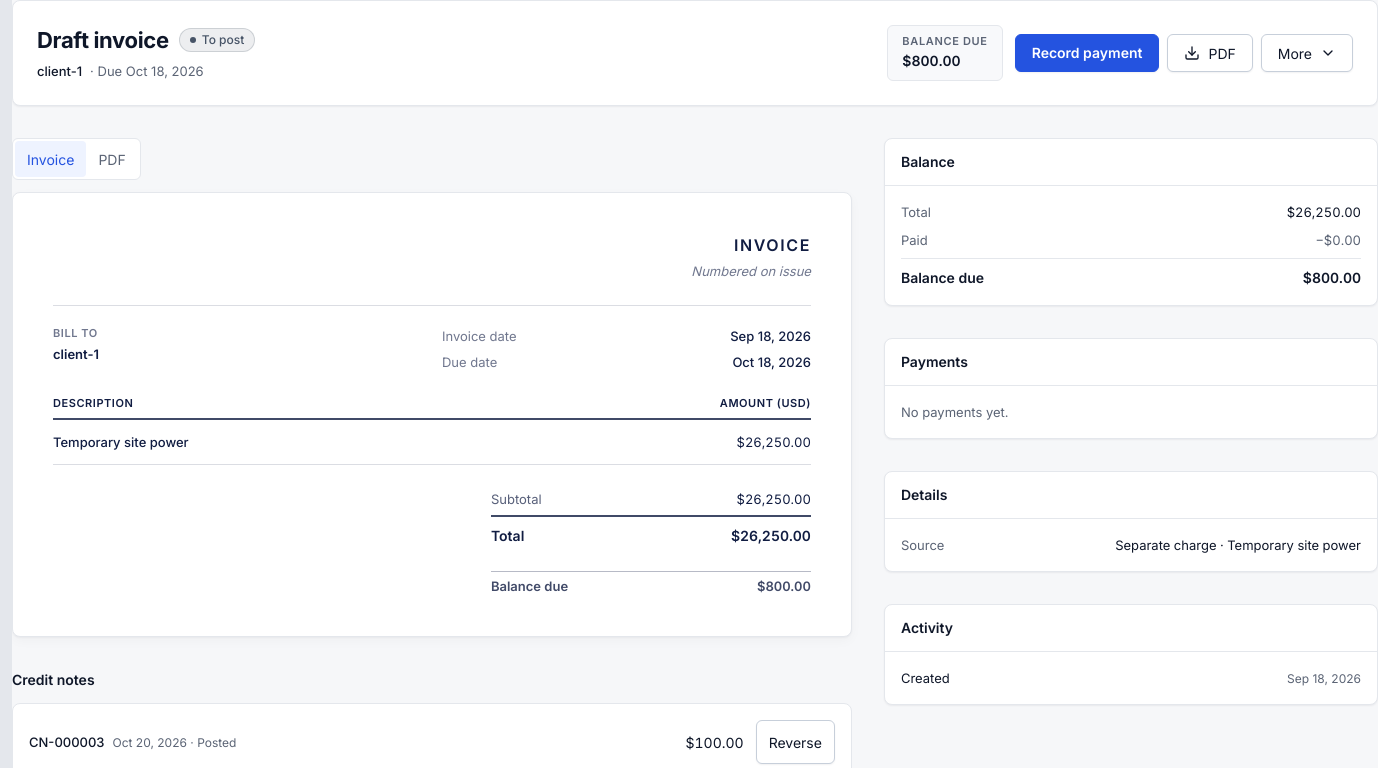
Test: InvoiceDetail — state-aware title and totals › offers a reminder on an opening-balance invoice (no Rukna number)
Click the button "More" at (1307, 53), box left=1261, top=34, right=1353, bottom=72
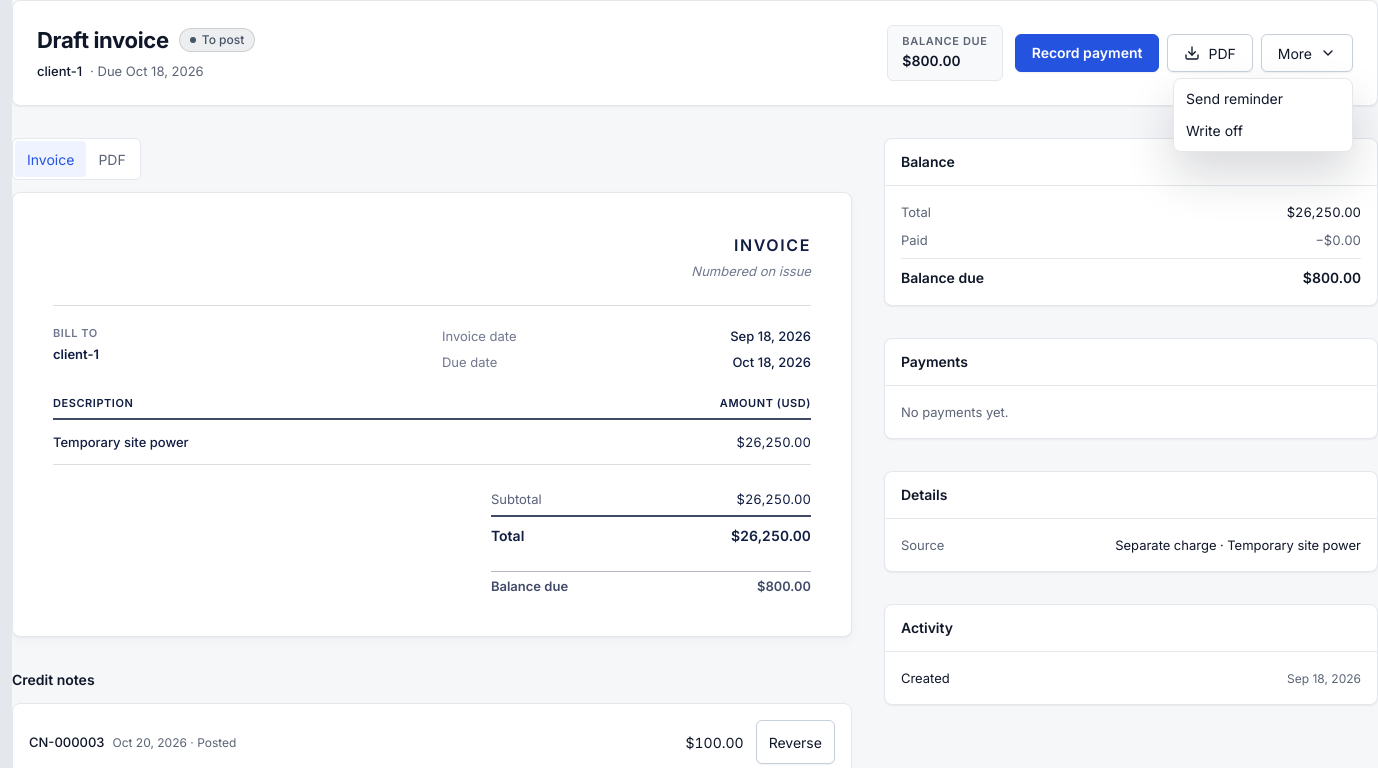
Check: the menu item "Send reminder" is shown, box left=1186, top=90, right=1283, bottom=107
